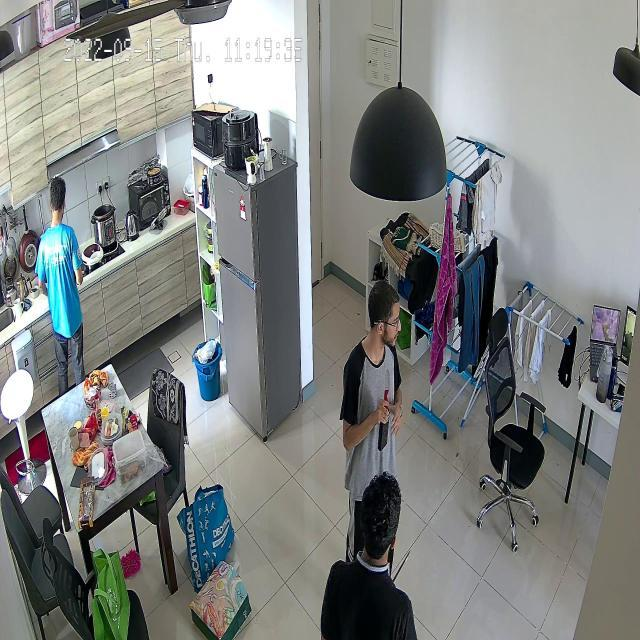Knife: (396, 548, 423, 589)
